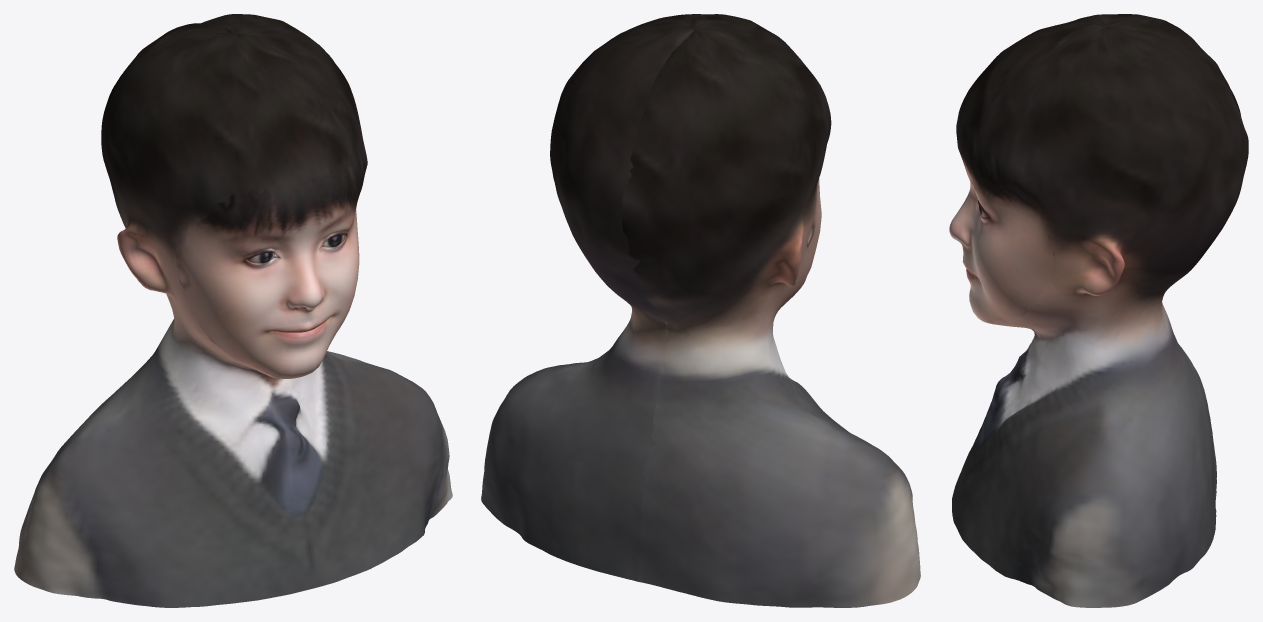
File: asset.glb
3 renders of one model, left to right at view 1: azimuth 30°, elevation 25°; view 2: azimuth 150°, elevation 25°; view 3: azimuth 270°, elevation 25°, orthographic. The views are drawn at different scales.
Visible parts, largest first — view 1: model; view 2: model; view 3: model.
Part boxes in pixels (left/top/right/bottom): model: left=14, top=14, right=452, bottom=607; model: left=481, top=14, right=920, bottom=607; model: left=949, top=14, right=1248, bottom=607.
Size of the model in its own units: 0.3516 by 0.4055 by 0.2255.
1 material, 1 textured.
